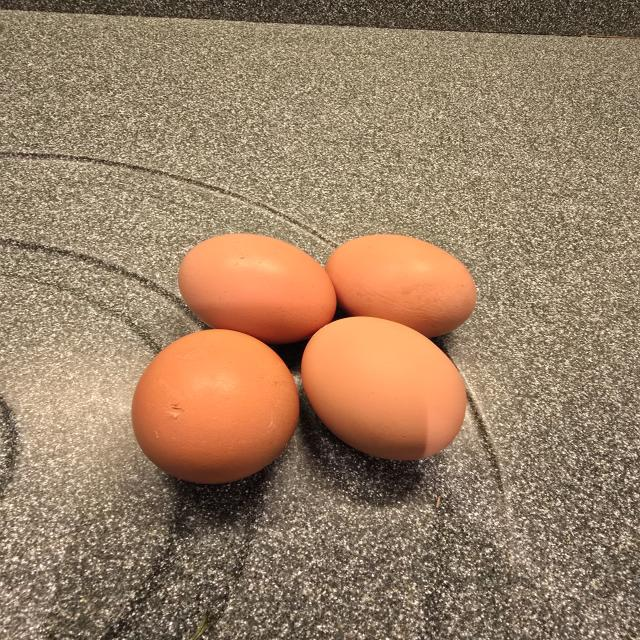Egg: (132, 329, 299, 483), (301, 317, 467, 460), (179, 234, 336, 344), (325, 235, 476, 337)
